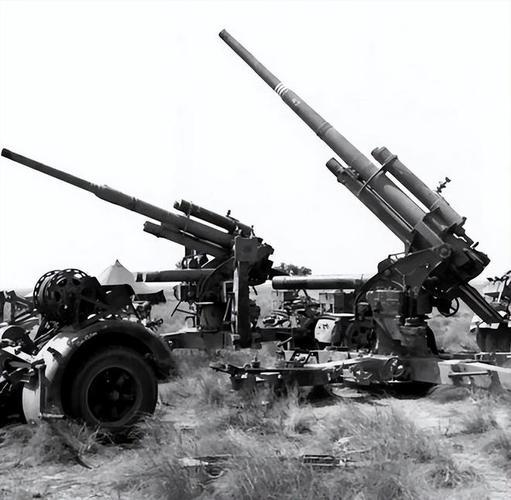MIL_SPG: (221, 31, 502, 385), (2, 149, 276, 348)
